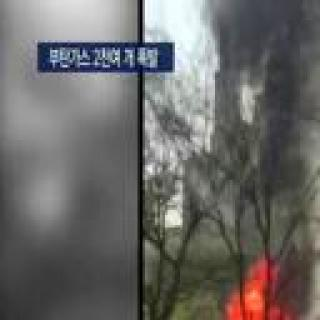fire: (216, 282, 294, 320)
